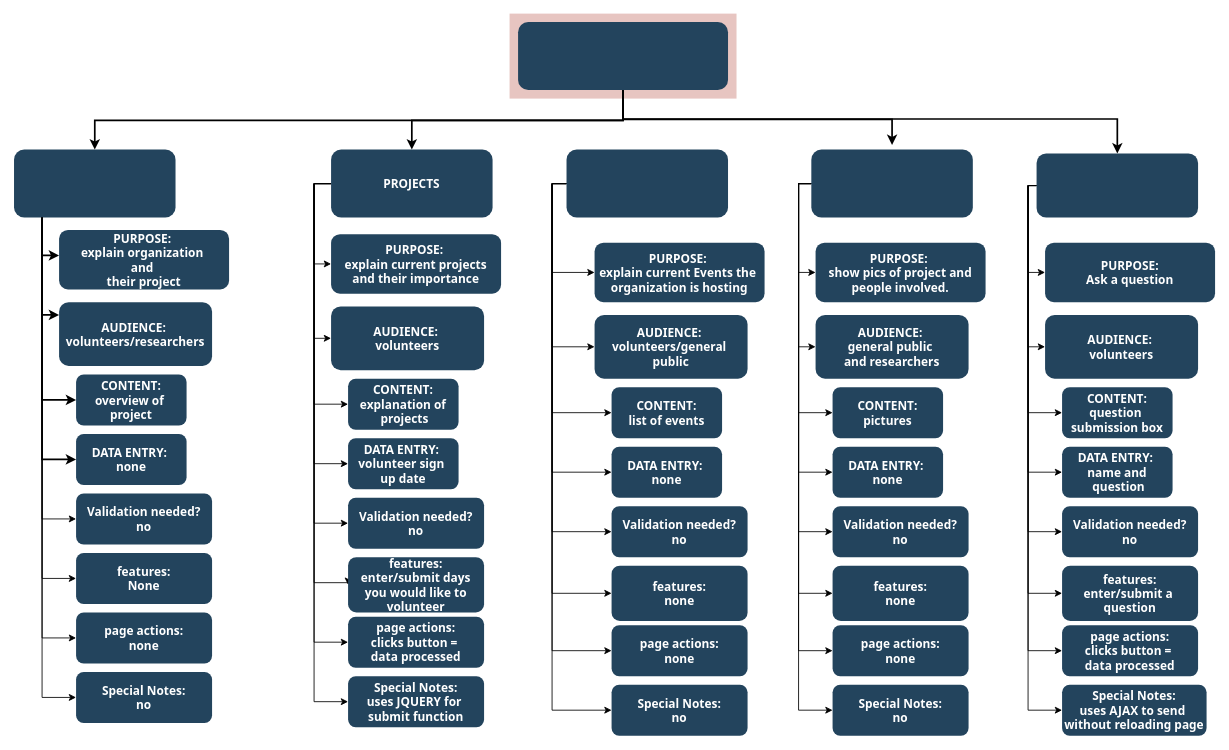
This 1229x750 diagram has some shape labels left out. The box of each missing label's shape, as (x1, y1, x2, y2) in pixels:
Contact: (1036, 153, 1198, 217)
EVENTS: (566, 149, 728, 217)
GALLERY: (811, 149, 972, 217)
HOME: (14, 149, 175, 217)
uncc Animal Surveying project: (518, 22, 728, 90)
